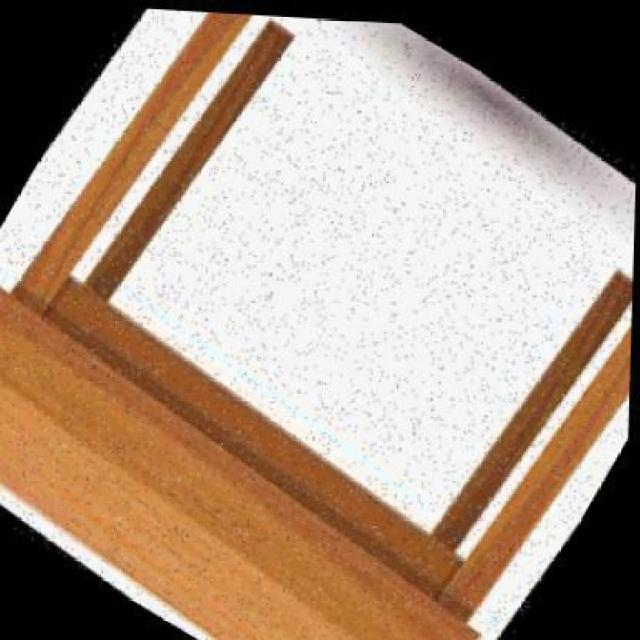tables: (0, 3, 637, 639)
